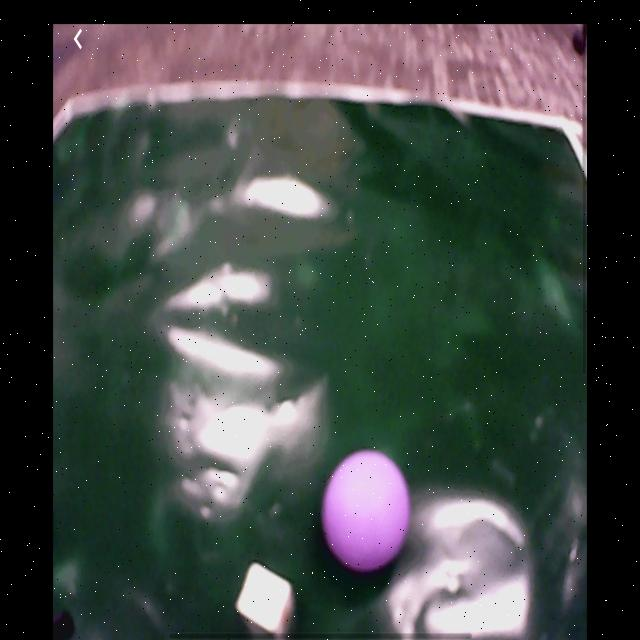ball: (323, 450, 412, 574)
